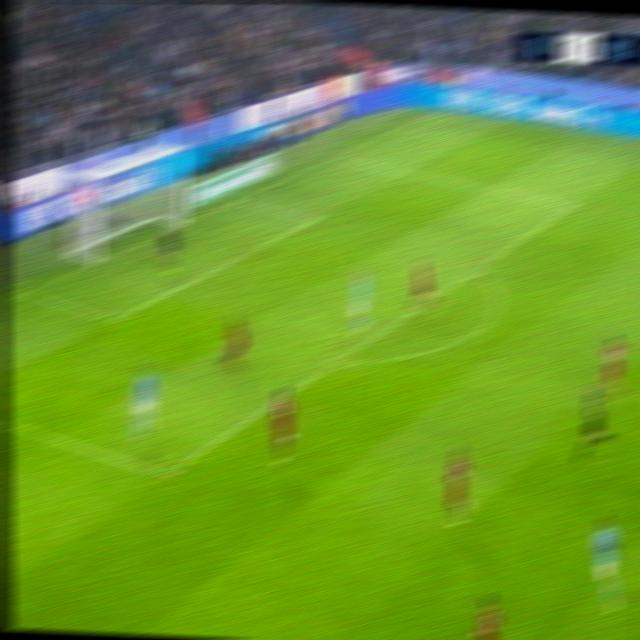bigarea_bottom_inner: (152, 459, 182, 488)
bigarea_top_inner: (560, 191, 587, 219)
bigarea_top_outter: (322, 147, 346, 165)
bottom_arc_area_intersection: (323, 347, 352, 374)
corner: (420, 106, 445, 120)
smallarea_bottom_inner: (101, 302, 131, 330)
smallarea_bottom_outter: (13, 280, 39, 302)
smallarea_top_inner: (303, 207, 328, 230)
smallarea_top_outter: (226, 190, 251, 209)
top_arc_area_intersection: (466, 255, 492, 280)
